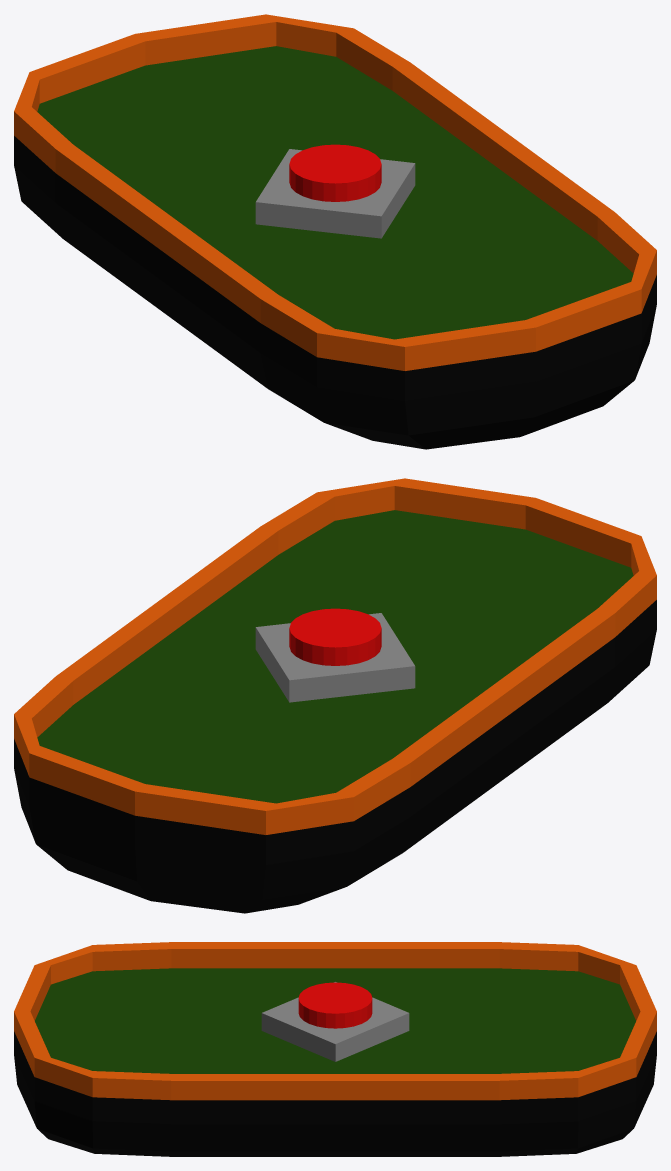
File: krishkaDown.glb
3 views of the same model, one above another, from view 1: azimuth 30°, elevation 25°; view 2: azimuth 150°, elevation 25°; view 3: azimuth 270°, elevation 25° (orthographic). The views are drawn at different scales.
Visible parts, largest first — view 1: Cube; view 2: Cube; view 3: Cube.
Part boxes in pixels (<box>): Cube: <box>14,14,656,449</box>; Cube: <box>14,478,656,913</box>; Cube: <box>14,942,656,1156</box>.
Size of the model in its own units: 2 by 0.819 by 3.92.
